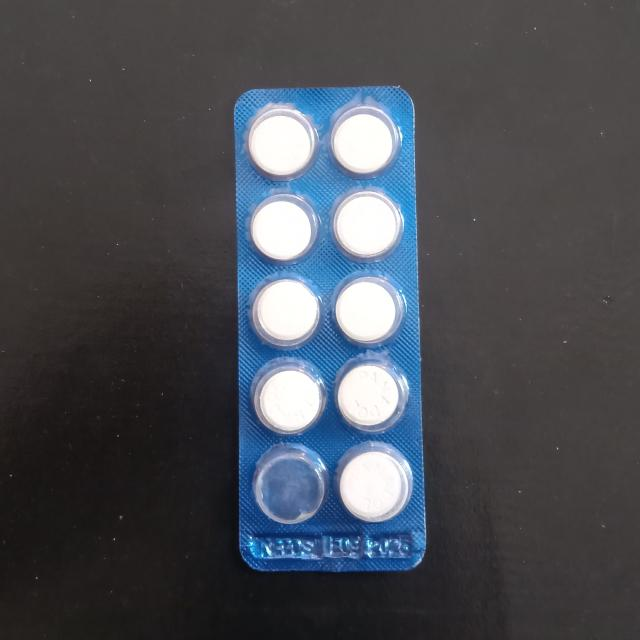defect: (252, 444, 327, 534)
